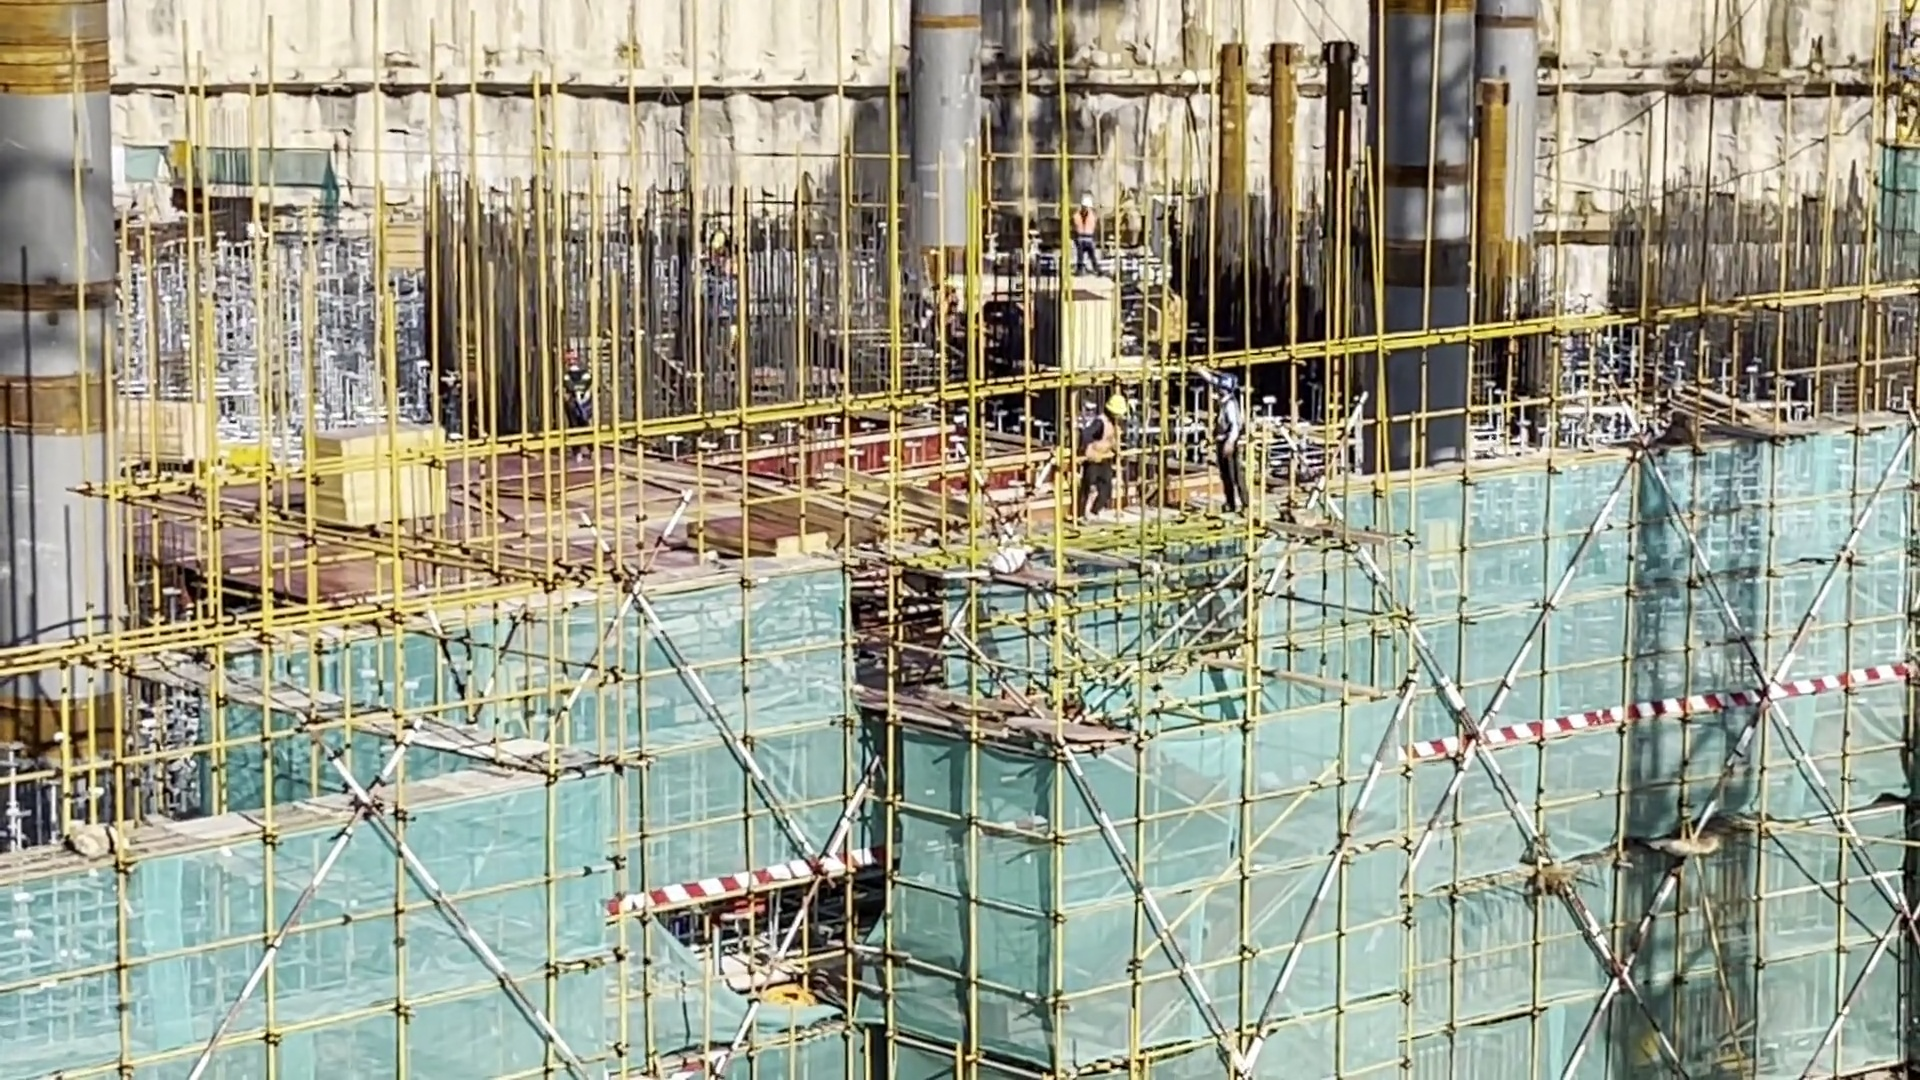helmet: (1104, 392, 1138, 422), (1212, 369, 1247, 396), (932, 275, 969, 295), (705, 231, 728, 263), (563, 358, 589, 378), (412, 358, 432, 374), (1078, 195, 1103, 207)
person: (1189, 363, 1266, 543), (911, 268, 992, 365), (697, 213, 764, 328), (552, 346, 606, 481), (1076, 376, 1121, 510), (397, 341, 464, 416), (1071, 188, 1106, 288)
vest: (1209, 392, 1249, 447), (1081, 419, 1128, 461), (564, 376, 596, 419), (427, 362, 464, 399), (923, 293, 964, 325), (707, 252, 730, 293), (1071, 213, 1095, 242)
